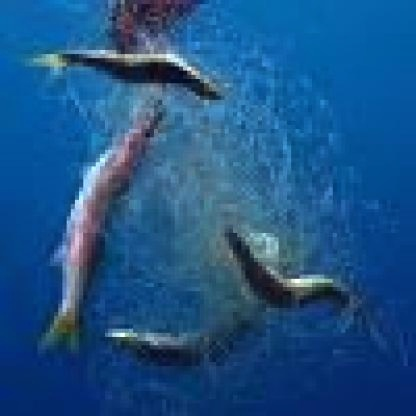net: (116, 62, 333, 316)
